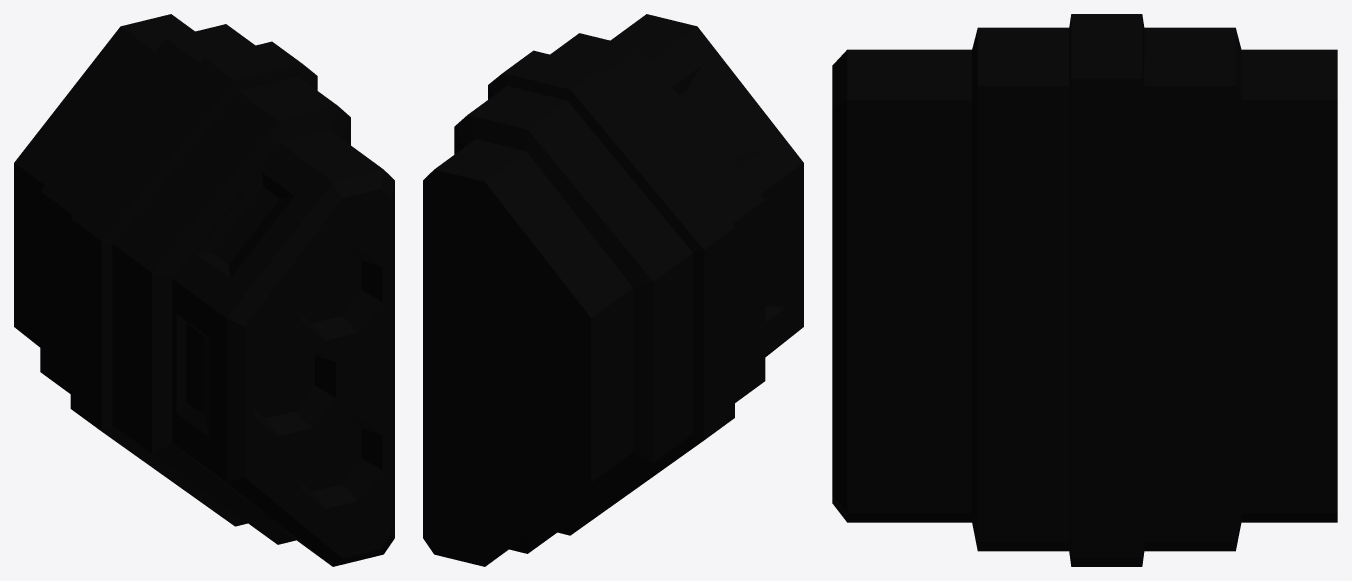
The model's file is space_SM_Veh_Part_Misc_022.gltf.
3 views of the same model, side by side, from view 1: azimuth 30°, elevation 25°; view 2: azimuth 150°, elevation 25°; view 3: azimuth 270°, elevation 25° (orthographic). The views are drawn at different scales.
Visible parts, largest first — view 1: SM_Veh_Part_Misc_022; view 2: SM_Veh_Part_Misc_022; view 3: SM_Veh_Part_Misc_022.
Boxes of the visible parts, <box> form: SM_Veh_Part_Misc_022: <box>14,14,394,566</box>; SM_Veh_Part_Misc_022: <box>423,14,803,566</box>; SM_Veh_Part_Misc_022: <box>832,14,1337,566</box>.
Bounding box in the file's own units: 0.593 × 1.17 × 1.04.
1 material, 1 textured.
